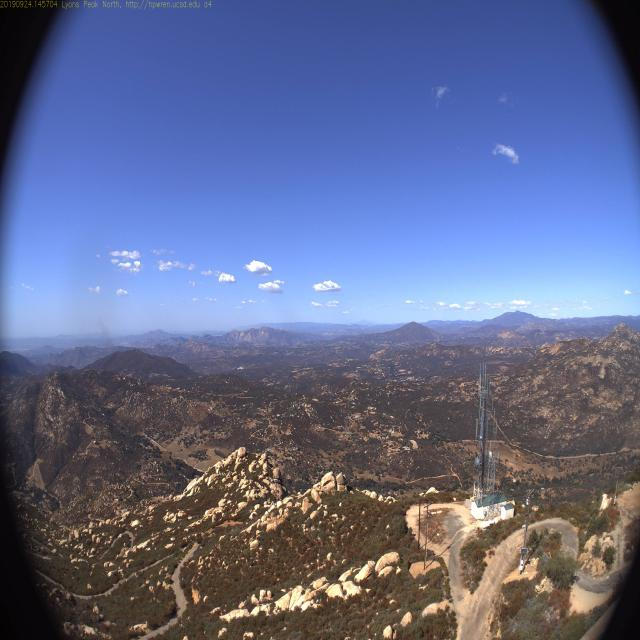smoke: (93, 308, 123, 363)
